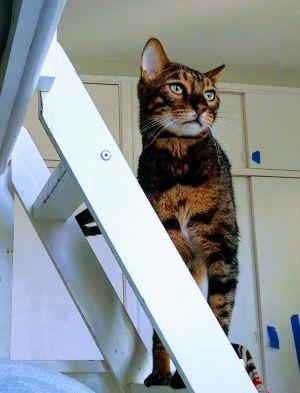bengal: (130, 29, 228, 145)
